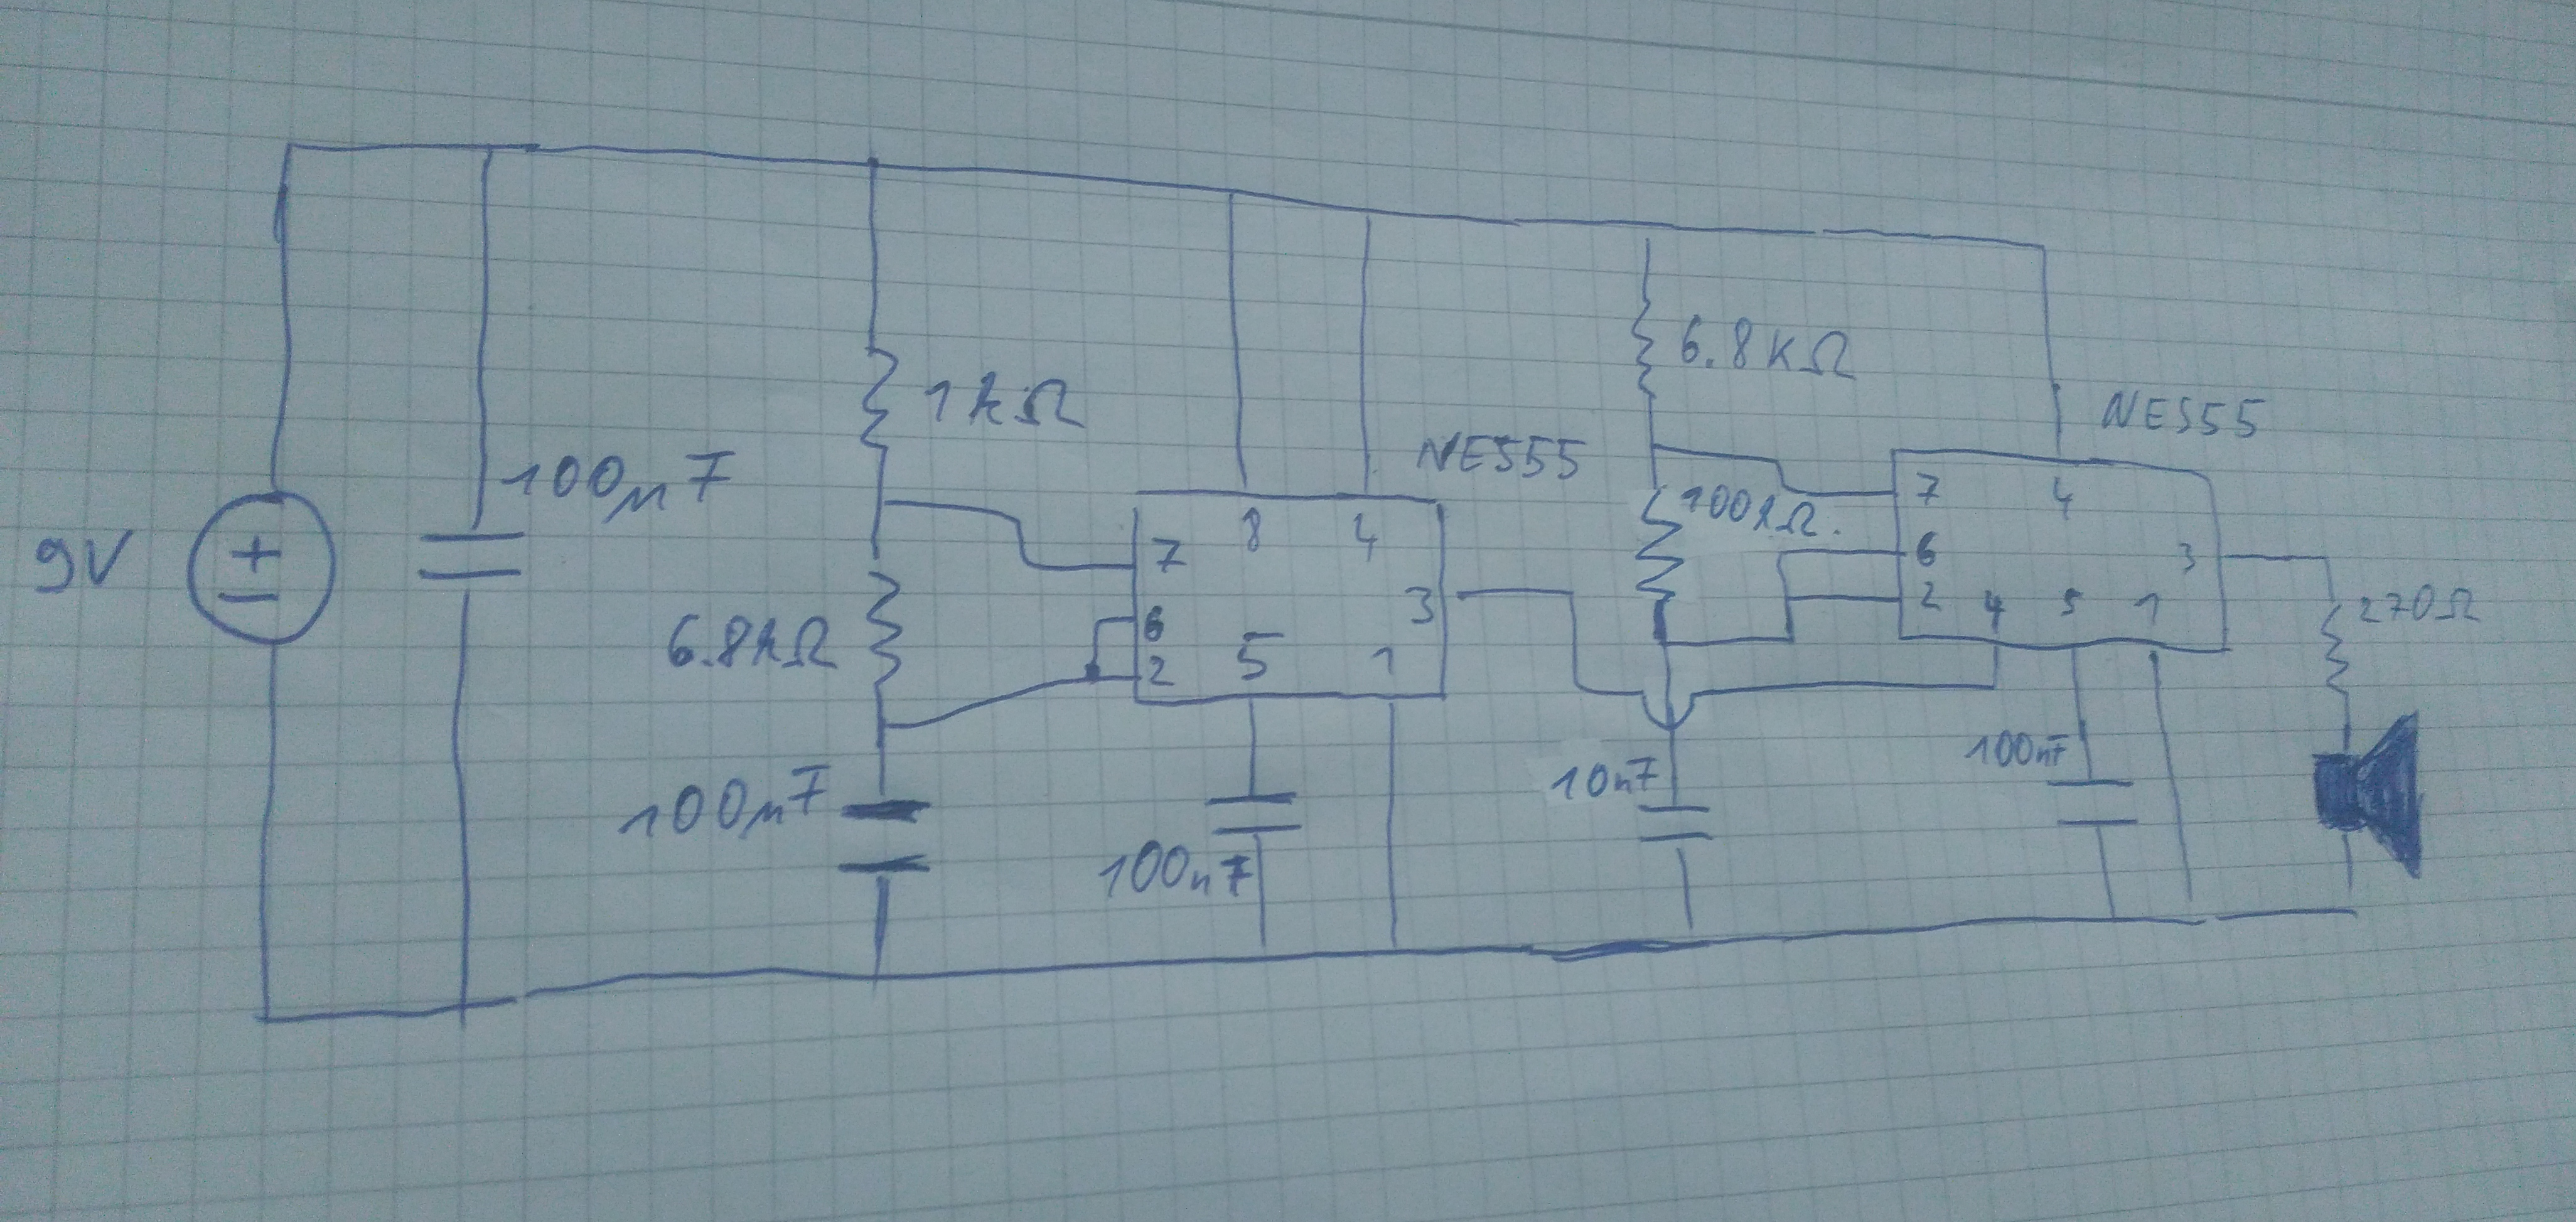capacitor.unpolarized: (833, 793, 936, 879), (411, 529, 531, 585), (2040, 774, 2144, 831), (1198, 790, 1308, 839), (1630, 798, 1717, 846)
crossover: (1636, 680, 1702, 733)
integrated_cricuit.ne555: (1122, 481, 1460, 710), (1886, 445, 2238, 652)
junction: (434, 987, 499, 1036), (2169, 884, 2223, 939), (848, 953, 902, 1007), (1620, 212, 1674, 258), (1669, 913, 1717, 961), (241, 999, 296, 1040), (862, 708, 910, 752), (2095, 892, 2131, 938), (1247, 931, 1285, 971), (1971, 667, 2011, 703), (2333, 885, 2369, 925), (1349, 197, 1390, 230), (1378, 931, 1414, 966), (1636, 432, 1676, 463), (2027, 233, 2063, 266), (1554, 580, 1590, 613), (1566, 668, 1598, 705), (869, 489, 904, 522), (854, 153, 890, 184), (2308, 545, 2344, 577), (1076, 660, 1107, 695), (475, 138, 509, 168), (1217, 181, 1249, 212), (278, 130, 307, 163), (1009, 545, 1040, 575), (1005, 504, 1032, 537), (1773, 627, 1805, 654), (1771, 588, 1804, 613), (1649, 632, 1679, 657), (1771, 471, 1797, 498), (1086, 611, 1112, 636), (1771, 545, 1799, 567), (1764, 453, 1791, 475)
resistor: (1631, 478, 1689, 609), (858, 567, 907, 690), (858, 342, 905, 455), (2318, 601, 2357, 703), (1628, 294, 1661, 404)
speaker: (2310, 708, 2430, 894)
text: (501, 442, 744, 524), (614, 760, 828, 844), (1677, 310, 1861, 383), (665, 609, 843, 673), (1096, 839, 1257, 908), (925, 371, 1099, 434), (1414, 430, 1589, 483), (28, 524, 143, 601), (1681, 480, 1820, 542), (2100, 386, 2269, 434), (2354, 580, 2484, 627), (1551, 754, 1658, 802), (1963, 729, 2075, 769), (1232, 629, 1288, 687), (1147, 531, 1188, 577), (2045, 470, 2080, 522), (1976, 585, 2011, 634), (1352, 511, 1382, 565), (1240, 503, 1270, 555), (1403, 581, 1434, 629), (2129, 590, 2165, 629), (1138, 601, 1173, 642), (1143, 652, 1181, 688), (1368, 641, 1403, 678), (1914, 468, 1943, 511), (1914, 524, 1940, 572), (2172, 539, 2198, 581), (2058, 583, 2085, 624), (1917, 578, 1947, 613)
voltage.dc: (179, 481, 343, 650)
